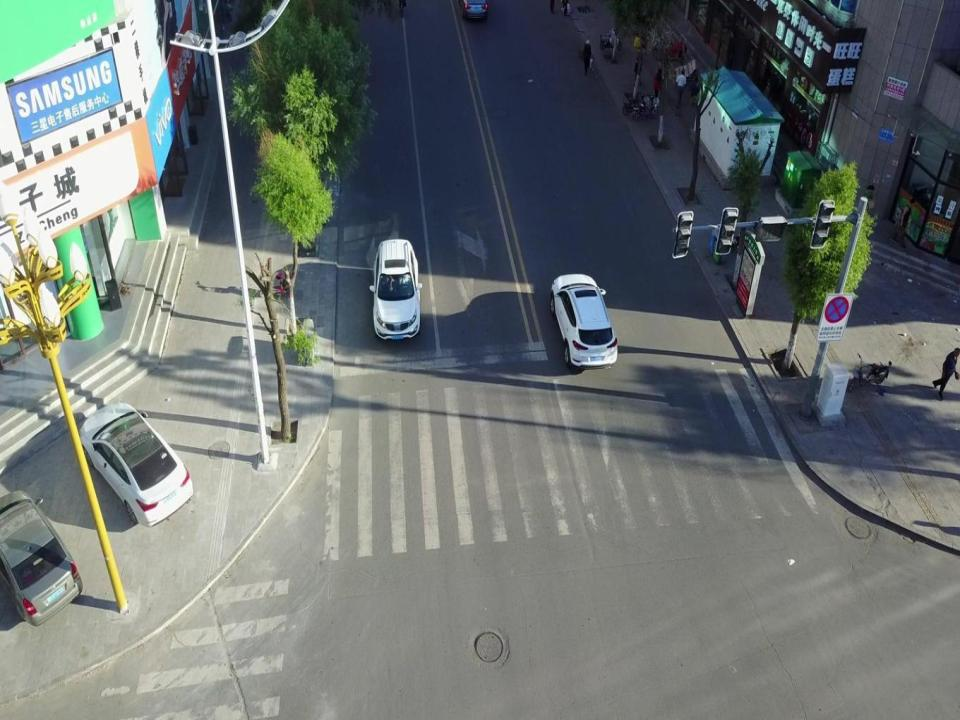car: (77, 397, 194, 527), (0, 487, 83, 626), (548, 271, 618, 370), (369, 235, 424, 343)
